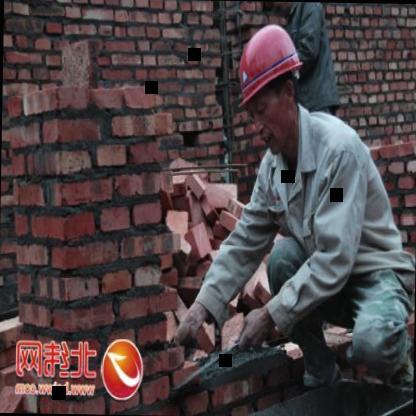helmet: (231, 22, 310, 155)
